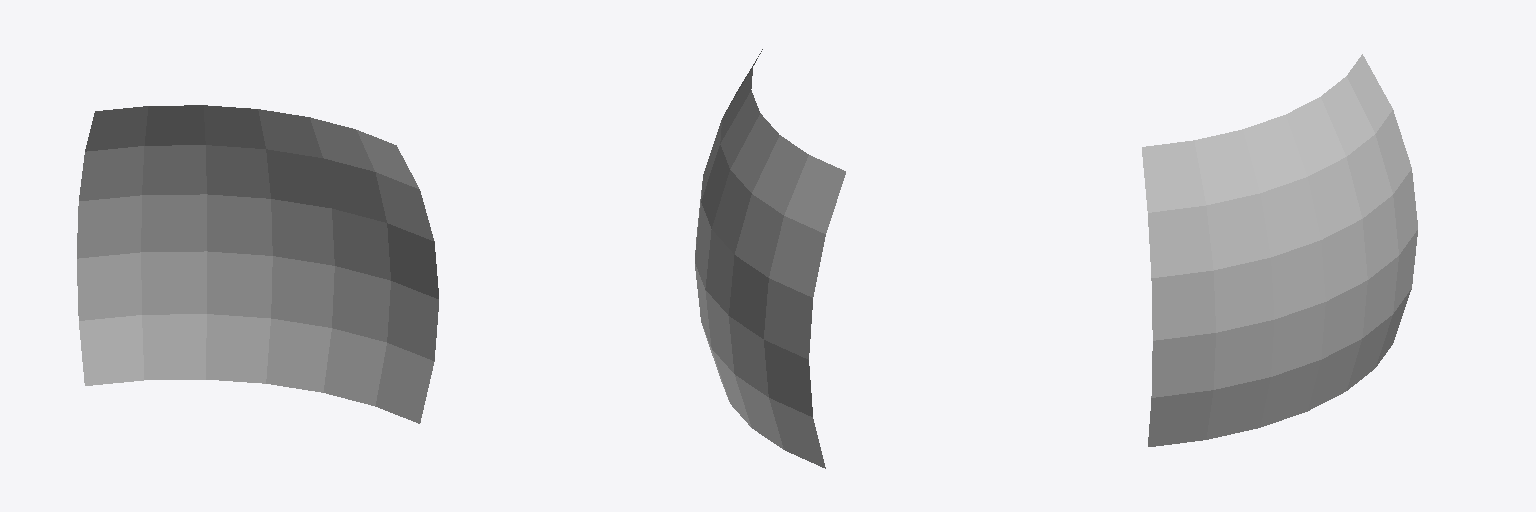
The model's file is Sphere_Decal.obj.
3 views of the same model, side by side, from view 1: azimuth 30°, elevation 25°; view 2: azimuth 150°, elevation 25°; view 3: azimuth 270°, elevation 25° (orthographic).
Parts seen in each view (by area): view 1: Sphere; view 2: Sphere; view 3: Sphere.
Part boxes in pixels (bbox=[...]): Sphere: bbox=[77, 105, 438, 423]; Sphere: bbox=[695, 49, 845, 468]; Sphere: bbox=[1142, 54, 1417, 446].
Bounding box in the file's own units: 0.8186 × 0.9383 × 0.8186.